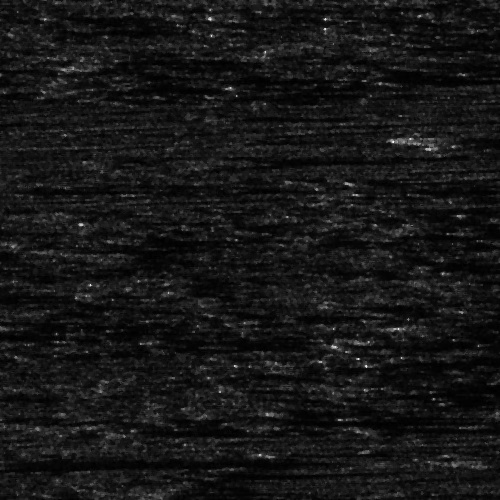object: (322, 334, 353, 353), (376, 41, 407, 48)
shadow: (337, 334, 500, 353), (0, 314, 128, 325), (0, 284, 47, 301), (392, 41, 500, 48)
